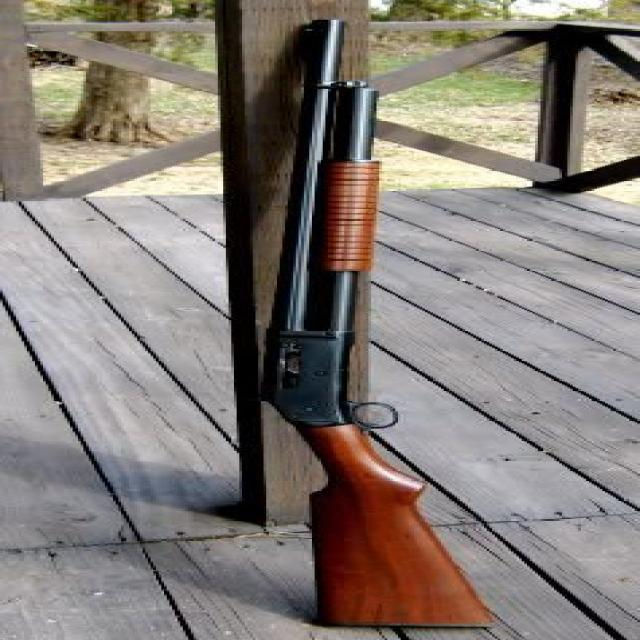shotgun: (280, 14, 516, 639)
